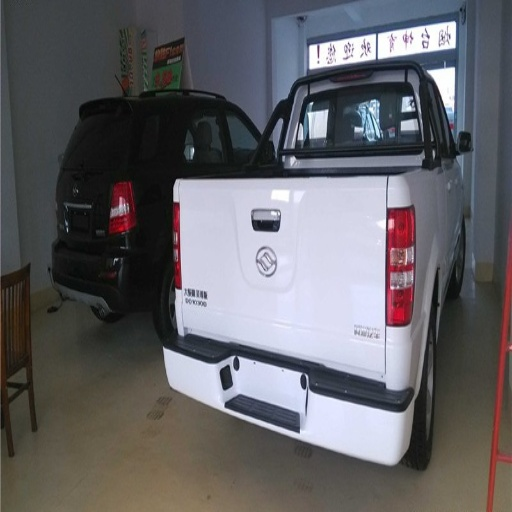_background_: (167, 329, 418, 441)
back_bumper: (73, 103, 227, 175), (267, 90, 391, 153)
back_right_door: (386, 206, 416, 326)
front_bumper: (362, 72, 417, 118)
tailgate: (182, 158, 413, 372)
trunk: (414, 399, 431, 459)
